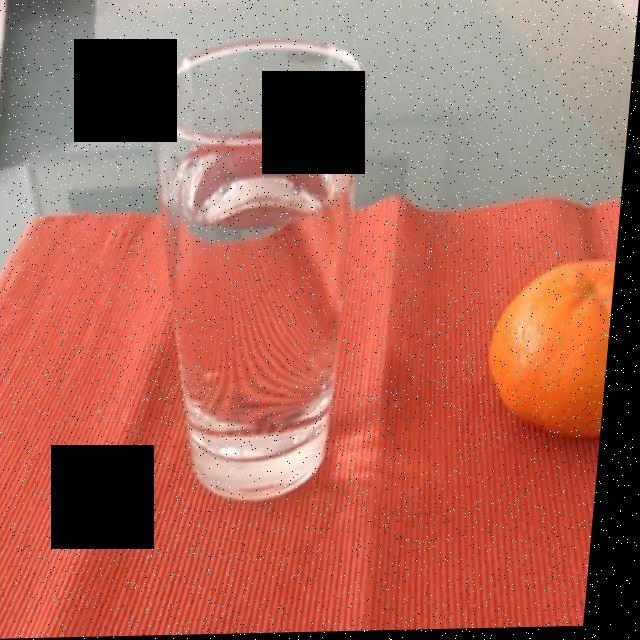water: (158, 136, 349, 465)
